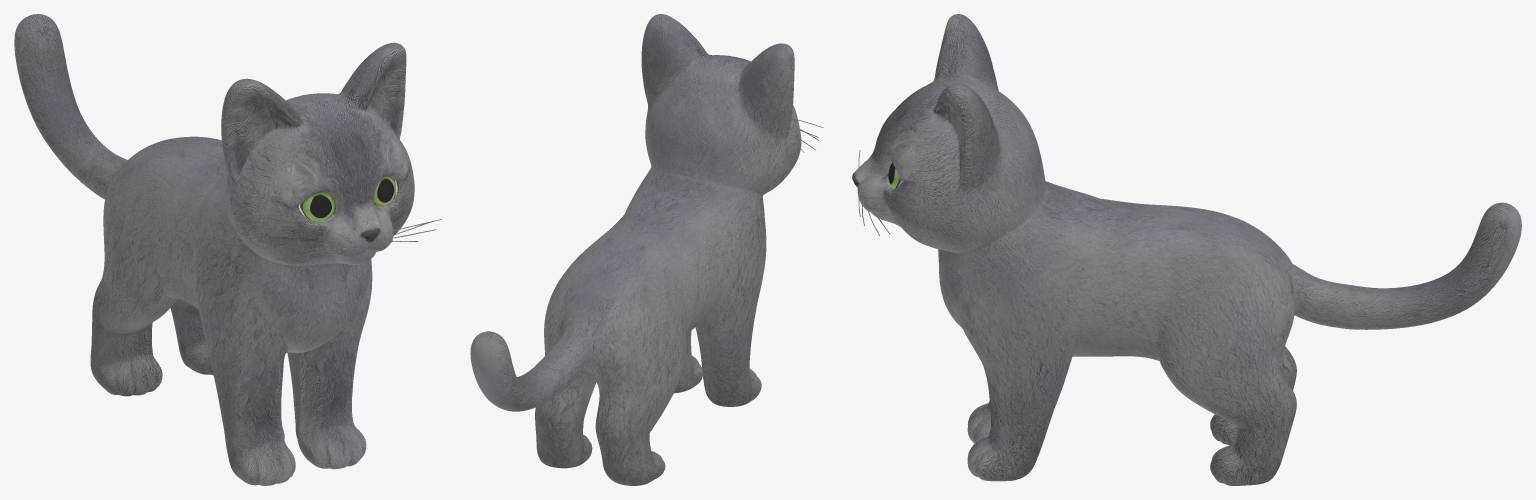
Rendered from meshy-korat.glb.
3 renders of one model, left to right at view 1: azimuth 30°, elevation 25°; view 2: azimuth 150°, elevation 25°; view 3: azimuth 270°, elevation 25°, orthographic. The views are drawn at different scales.
Visible parts, largest first — view 1: Mesh_0; view 2: Mesh_0; view 3: Mesh_0.
Boxes of the visible parts, <box> form: Mesh_0: <box>14,14,441,485</box>; Mesh_0: <box>470,14,823,485</box>; Mesh_0: <box>852,14,1521,485</box>.
Bounding box in the file's own units: 0.5727 × 1.27 × 1.9.
Materials: 1 (1 with a texture image).
